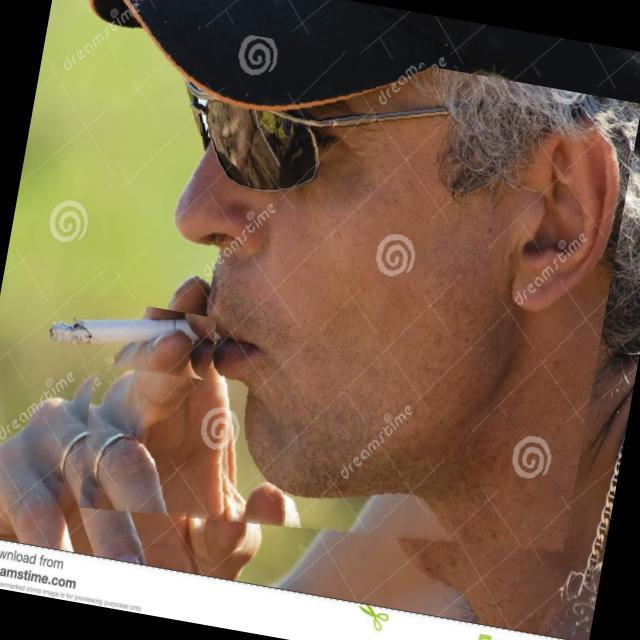cigarette: (30, 287, 216, 386)
